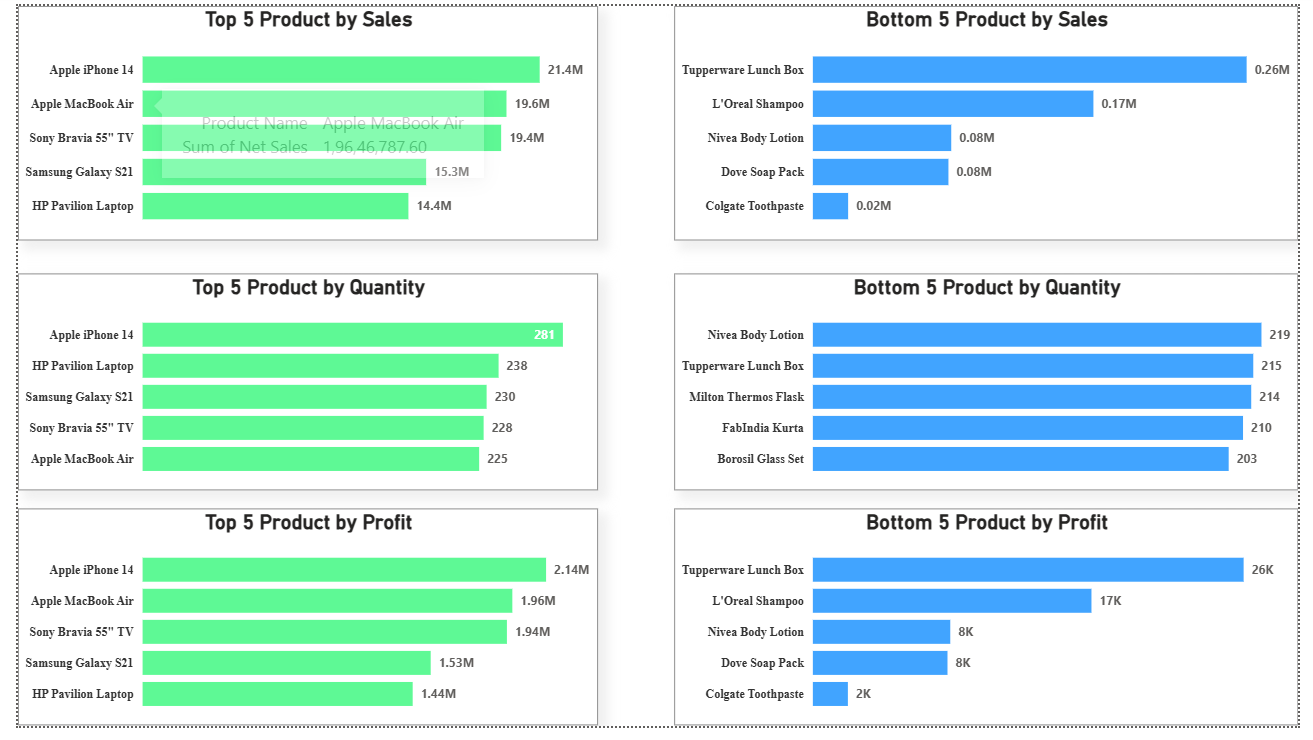

The page's visual inventory and layout, read from the dashboard file:
{"tool":"powerbi","page":{"name":"Top/Bottom 5 Products","canvas":[1280,720],"ordinal":0},"visuals":[{"type":"barChart","title":"Top 5  Product by Sales","fields":{"Y":["Sum(Fact Table.Net Sales )"],"Category":["Dim Product.Product Name"]},"box":[0,0,580,234.3],"z":0},{"type":"barChart","title":"Bottom 5  Product by Sales","fields":{"Y":["Sum(Fact Table.Net Sales )"],"Category":["Dim Product.Product Name"]},"box":[655.7,0,624.3,234.3],"z":1000},{"type":"barChart","title":"Top 5  Product by Quantity","fields":{"Category":["Dim Product.Product Name"],"Y":["Sum(Fact Table.Units Sold)"]},"box":[0,267.1,580,217.1],"z":2000},{"type":"barChart","title":"Bottom 5  Product by Quantity","fields":{"Category":["Dim Product.Product Name"],"Y":["Sum(Fact Table.Units Sold)"]},"box":[655.7,267.1,624.3,217.1],"z":3000},{"type":"barChart","title":"Top 5  Product by Profit","fields":{"Category":["Dim Product.Product Name"],"Y":["Sum(Fact Table.Profit)"]},"box":[0,502.9,580,217.1],"z":4000},{"type":"barChart","title":"Bottom 5  Product by Profit","fields":{"Category":["Dim Product.Product Name"],"Y":["Sum(Fact Table.Profit)"]},"box":[655.7,502.9,624.3,217.1],"z":5000}]}

Visuals, with their boxes in screenshot pixels (x1, y1, x2, y2), scaled from the page's 1280x720 canvas onto the 1313x740 screenshot:
"Top 5  Product by Sales" barChart: 0/0/595/241
"Bottom 5  Product by Sales" barChart: 673/0/1312/241
"Top 5  Product by Quantity" barChart: 0/275/595/498
"Bottom 5  Product by Quantity" barChart: 673/275/1312/498
"Top 5  Product by Profit" barChart: 0/517/595/739
"Bottom 5  Product by Profit" barChart: 673/517/1312/739
